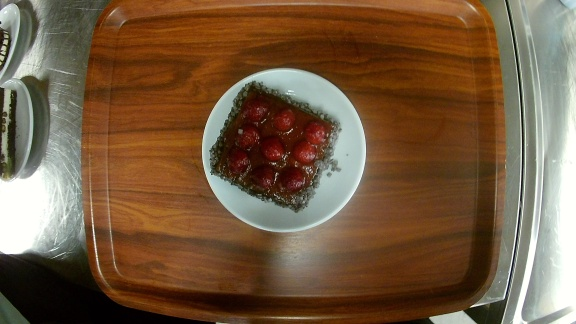cileklipasta: (200, 68, 368, 230)
